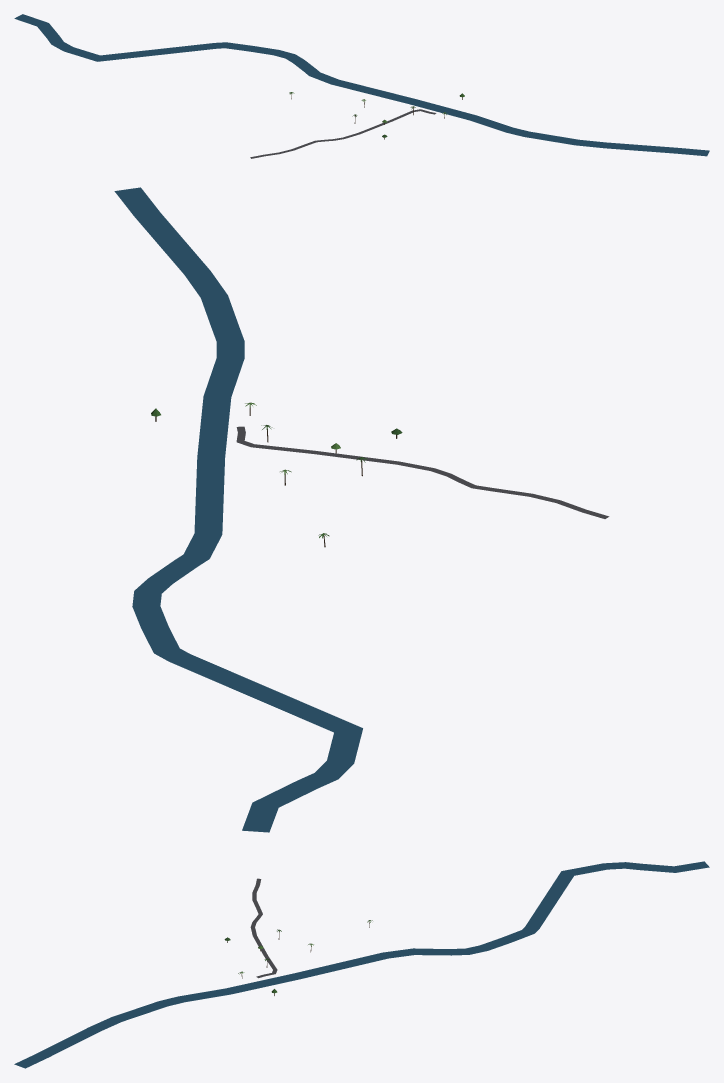
The picture shows the model from 3 angles, top to bottom: view 1: azimuth 30°, elevation 25°; view 2: azimuth 150°, elevation 25°; view 3: azimuth 270°, elevation 25°; orthographic projection. The views are drawn at different scales.
Parts seen in each view (by area): view 1: Water__r-1c3, Roads_Minor__r-1c3; view 2: Water__r-1c3, Roads_Minor__r-1c3; view 3: Water__r-1c3, Roads_Minor__r-1c3.
Part boxes in pixels (x1=…): Water__r-1c3: x1=14, y1=14, x2=709, y2=156; Roads_Minor__r-1c3: x1=250, y1=109, x2=436, y2=158; Water__r-1c3: x1=114, y1=187, x2=362, y2=832; Roads_Minor__r-1c3: x1=236, y1=426, x2=609, y2=518; Water__r-1c3: x1=14, y1=861, x2=709, y2=1068; Roads_Minor__r-1c3: x1=250, y1=878, x2=277, y2=978.
Bounding box in the file's own units: 448 × 10.82 × 636.
